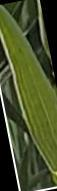Wheat: (20, 85, 57, 126), (12, 50, 41, 83), (39, 128, 57, 168)
